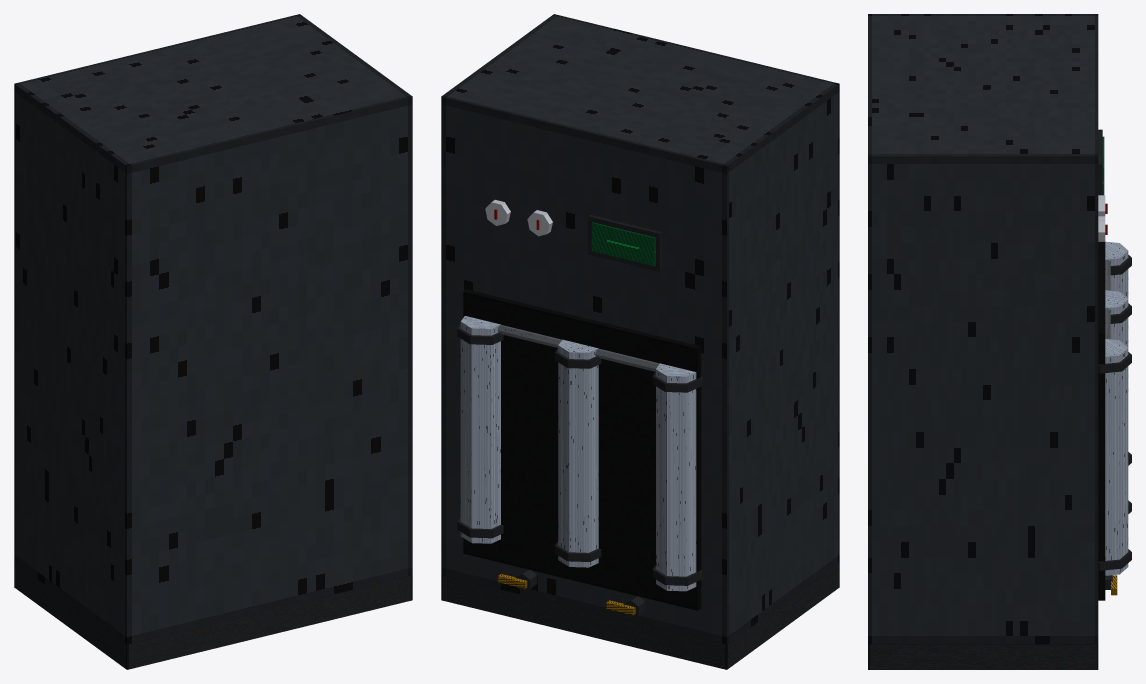
File: water_recycler.glb
3 renders of one model, left to right at view 1: azimuth 30°, elevation 25°; view 2: azimuth 150°, elevation 25°; view 3: azimuth 270°, elevation 25°, orthographic. The views are drawn at different scales.
Visible parts, largest first — view 1: water_recycler; view 2: water_recycler; view 3: water_recycler.
Boxes of the visible parts, left/top/right/bottom form: water_recycler: left=14, top=14, right=412, bottom=669; water_recycler: left=441, top=14, right=839, bottom=669; water_recycler: left=868, top=14, right=1131, bottom=669.
Bounding box in the file's own units: 0.95 × 1.6 × 0.7448.
1 material, 1 textured.
